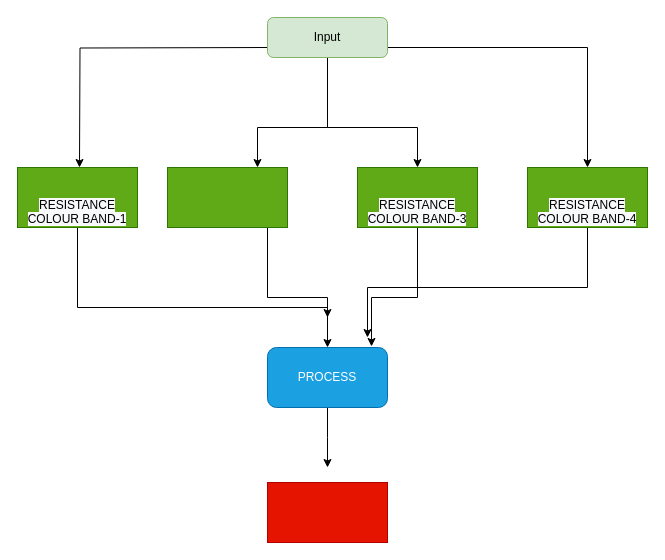
Image size: 665x560. Some labels were removed from this diagram. The centre of each missing label's shape, as x and y in pixels:
"OUTPUT" belongs at point (327, 512).
"RESISTANCE COLOUR BAND-2" belongs at point (227, 197).
